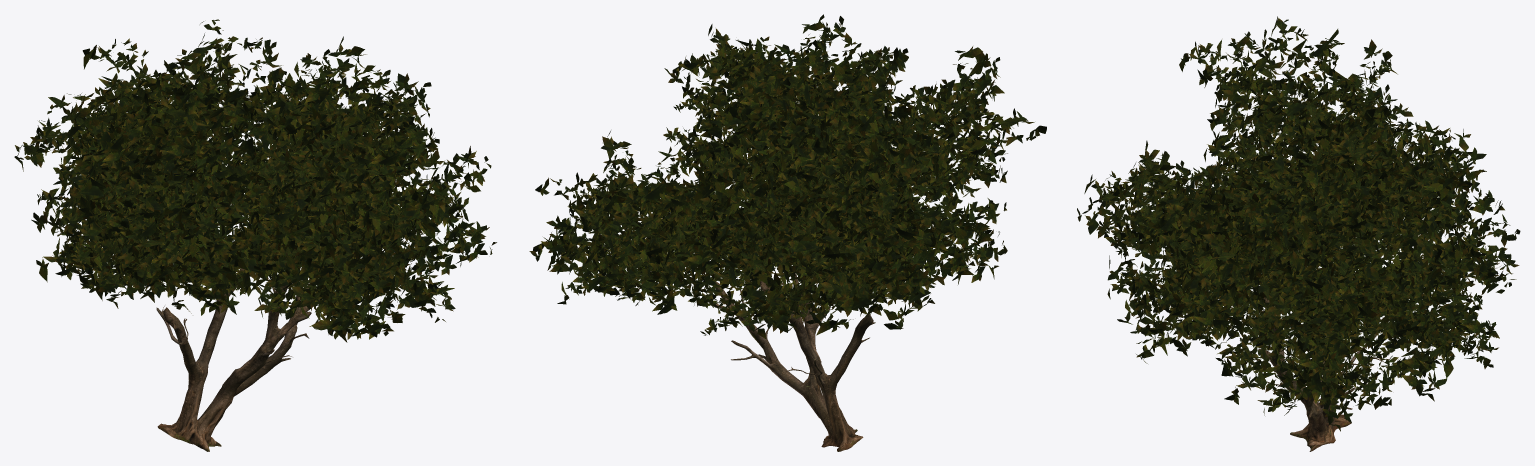
The model's file is drzewo_verdant.glb.
3 views of the same model, side by side, from view 1: azimuth 30°, elevation 25°; view 2: azimuth 150°, elevation 25°; view 3: azimuth 270°, elevation 25° (orthographic). The views are drawn at different scales.
Visible parts, largest first — view 1: liscie_0, liscie_1, liscie_2, pien; view 2: liscie_0, liscie_1, liscie_2, pien; view 3: liscie_0, liscie_1, liscie_2, pien.
Part boxes in pixels (x1=…): liscie_0: x1=15, y1=19, x2=496, y2=339; liscie_1: x1=14, y1=24, x2=487, y2=339; liscie_2: x1=19, y1=30, x2=481, y2=342; pien: x1=156, y1=267, x2=320, y2=451; liscie_0: x1=529, y1=14, x2=1044, y2=335; liscie_1: x1=535, y1=16, x2=1045, y2=333; liscie_2: x1=533, y1=22, x2=1046, y2=339; pien: x1=707, y1=273, x2=875, y2=451; liscie_0: x1=1077, y1=18, x2=1520, y2=430; liscie_1: x1=1077, y1=18, x2=1519, y2=431; liscie_2: x1=1084, y1=16, x2=1515, y2=424; pien: x1=1255, y1=297, x2=1384, y2=451.
Size of the model in its own units: 5.43 by 4.18 by 4.52.
2 materials, 2 textured.
